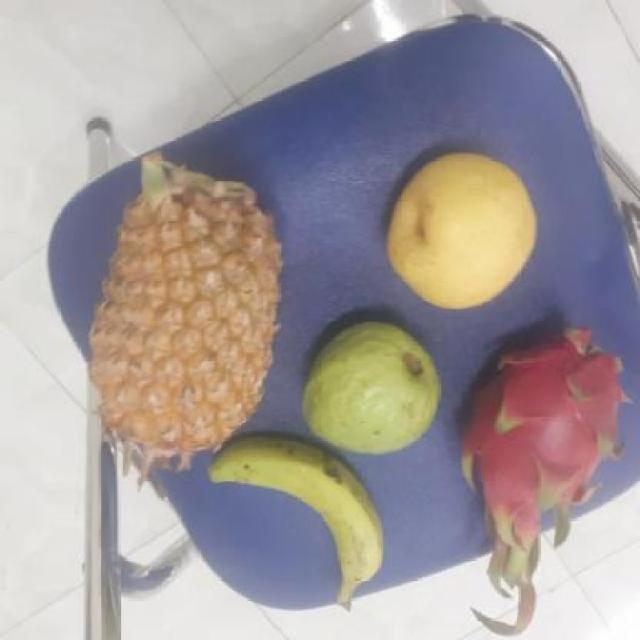banana: (208, 436, 383, 596)
dragon fruit: (453, 324, 621, 528)
guava: (298, 323, 440, 454)
pear: (378, 150, 538, 308)
pineapple: (78, 150, 279, 468)
